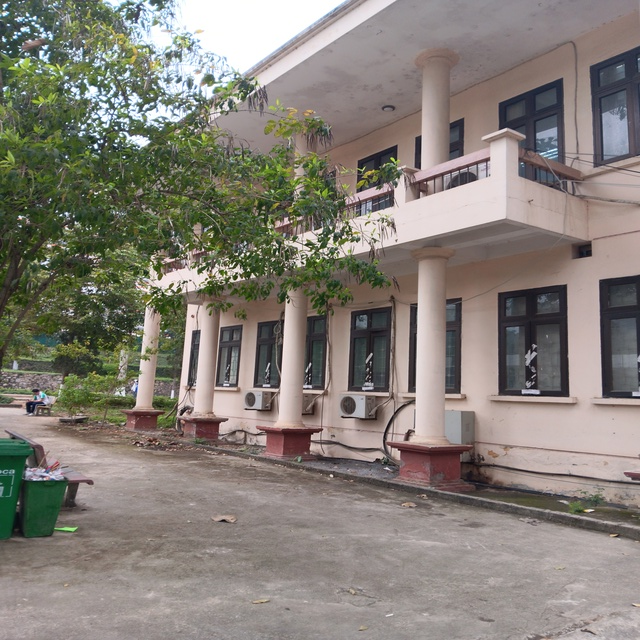thungrac: (19, 464, 80, 547), (1, 431, 33, 542)
